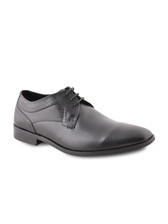shoes: (11, 83, 156, 156)
